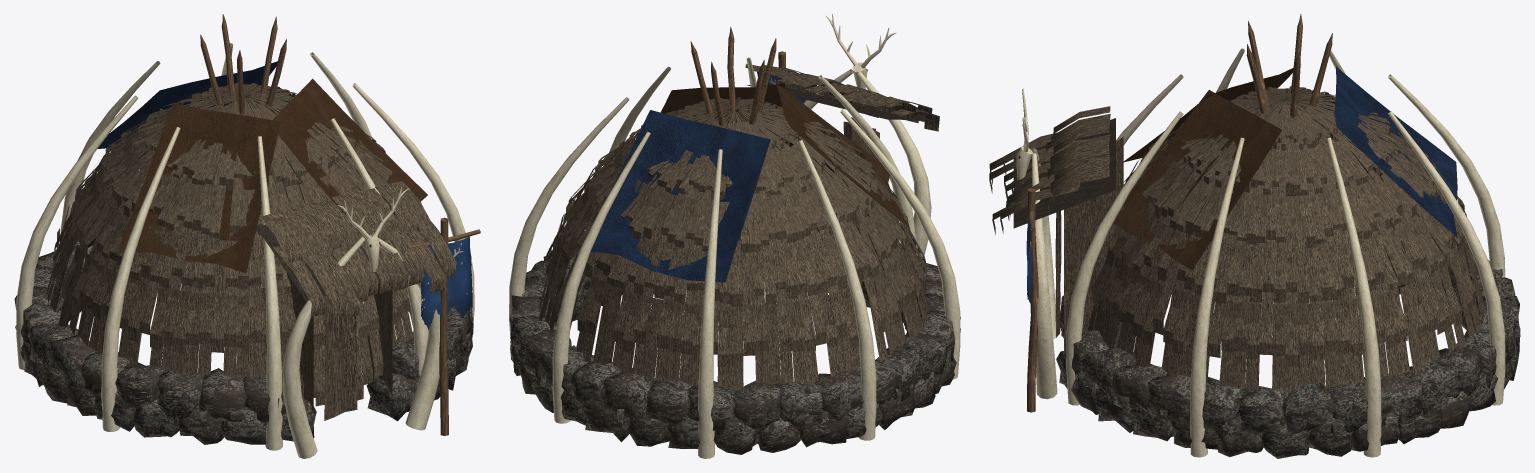
File: SM_Bld_North_Hut.gltf
The picture shows the model from 3 angles, left to right: view 1: azimuth 30°, elevation 25°; view 2: azimuth 150°, elevation 25°; view 3: azimuth 270°, elevation 25°; orthographic projection. The views are drawn at different scales.
Parts seen in each view (by area): view 1: SM_Bld_North_Hut; view 2: SM_Bld_North_Hut; view 3: SM_Bld_North_Hut.
Part boxes in pixels (left/top/right/bottom): SM_Bld_North_Hut: left=14, top=14, right=480, bottom=458; SM_Bld_North_Hut: left=509, top=14, right=960, bottom=458; SM_Bld_North_Hut: left=989, top=14, right=1520, bottom=458.
Bounding box in the file's own units: 5.55 × 4.4 × 6.23.
9 materials, 8 textured.
